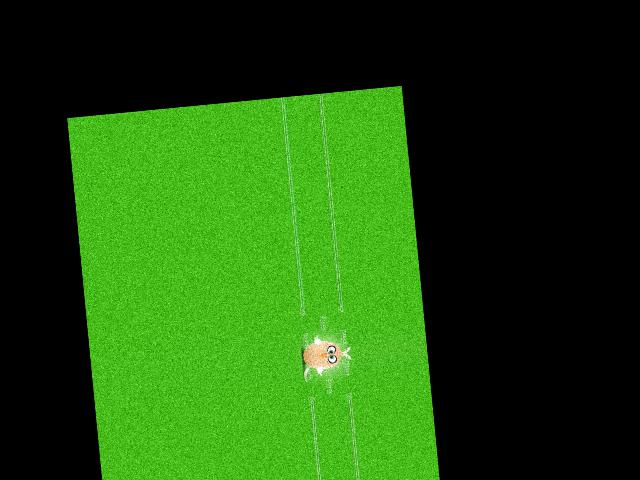egg: (301, 340, 343, 371)
